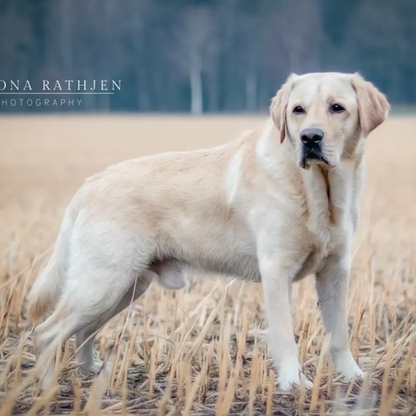labrado: (15, 68, 396, 400)
